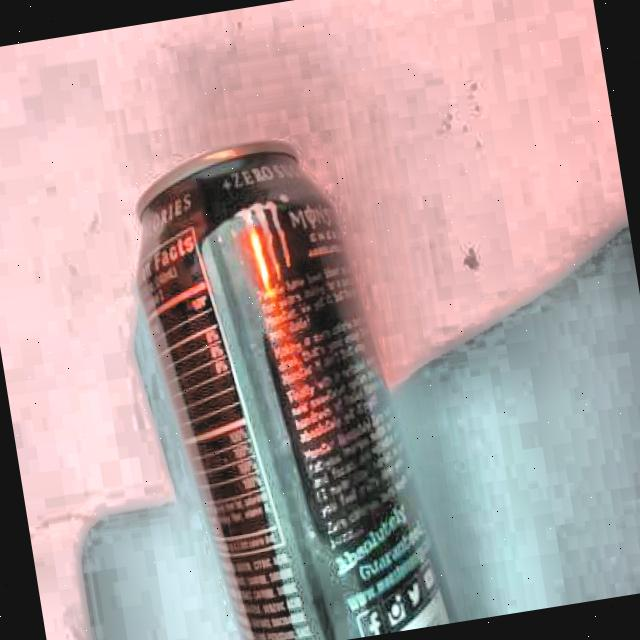metal: (117, 118, 458, 640)
